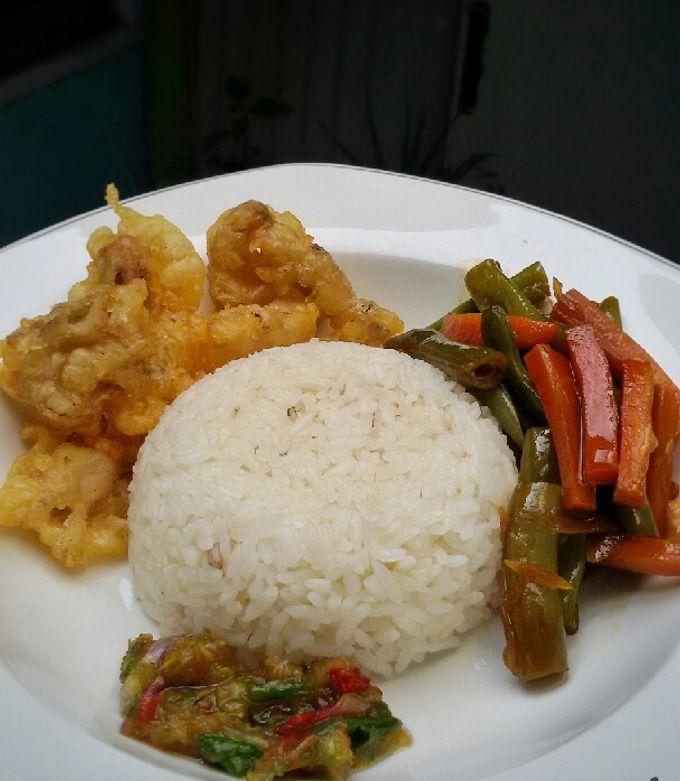buah_sayur_vitA: (154, 643, 331, 752), (561, 333, 637, 484)
daging: (114, 263, 331, 343)
makanan_berpati: (194, 395, 441, 589)
